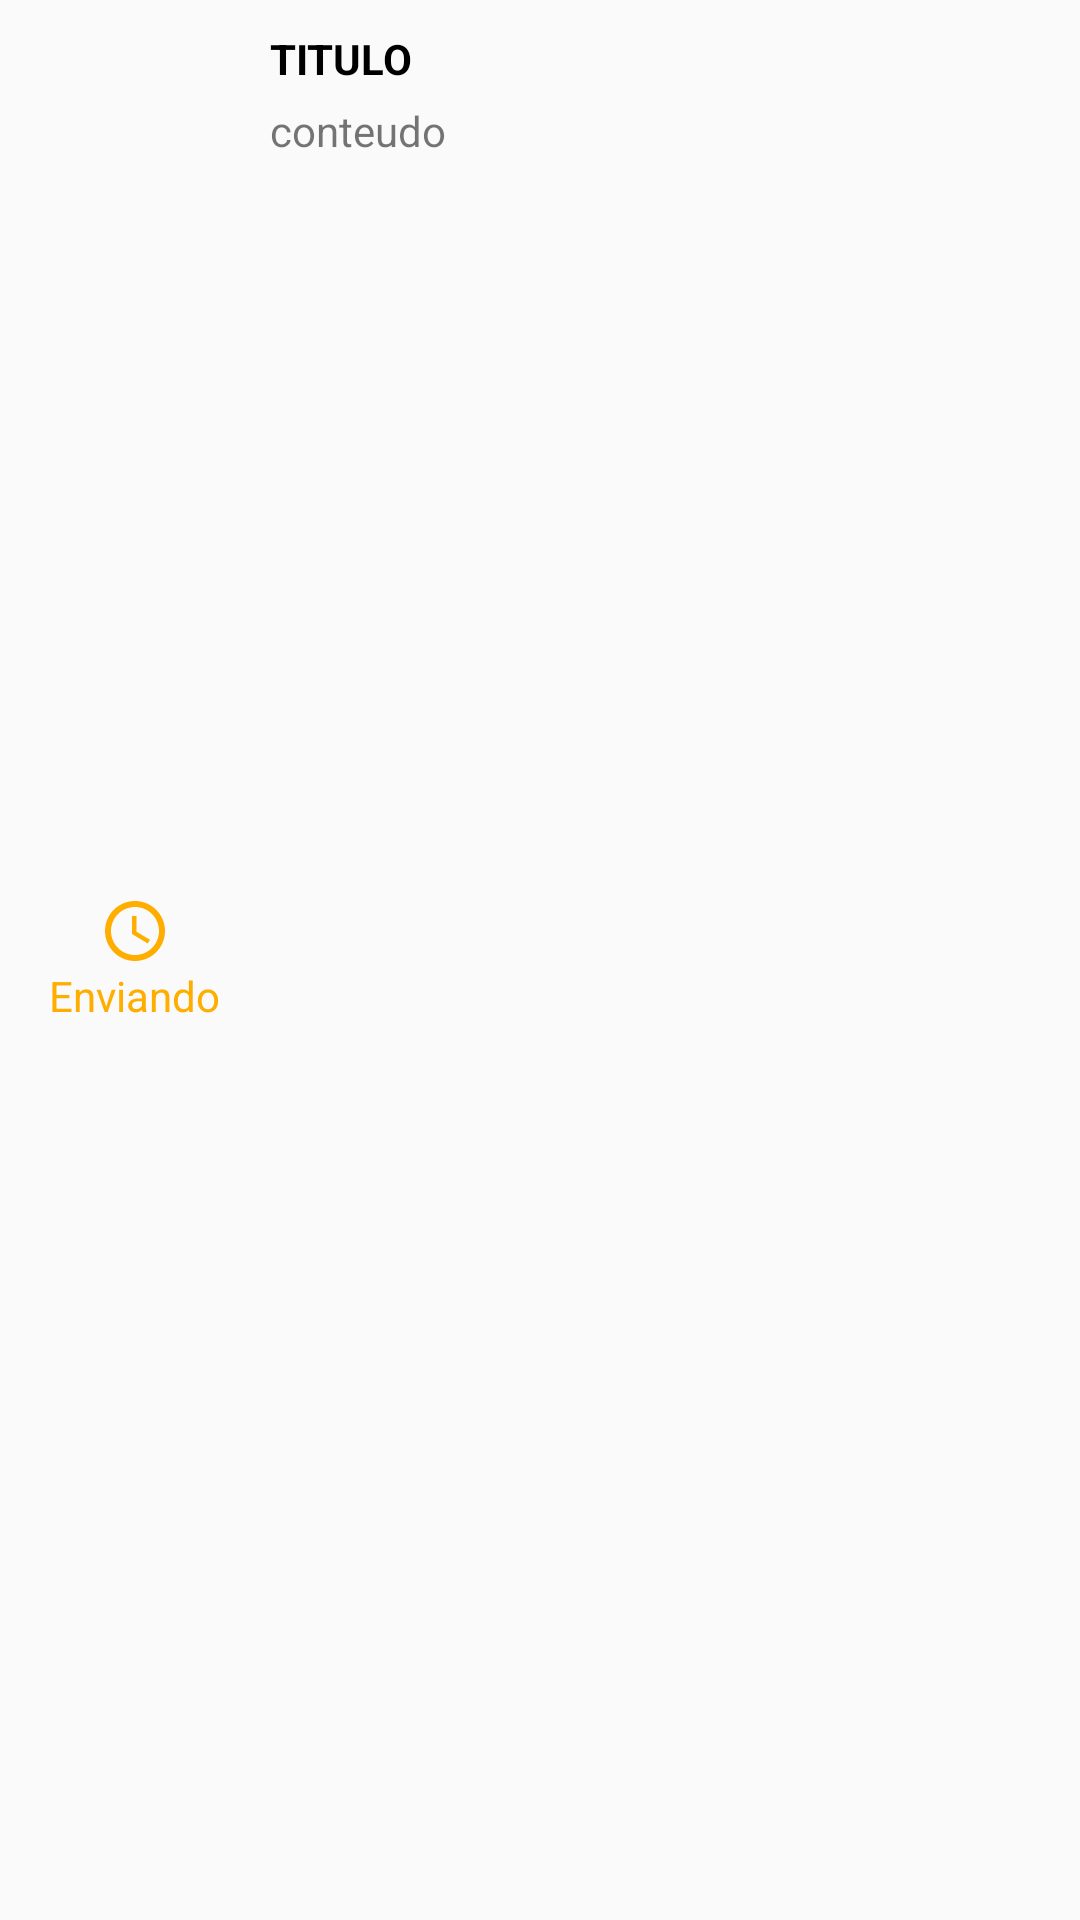

Icons on this 1080 × 1920 Android screen, each with its box as {"left": x1, "top": y1, "right": x2, "bottom": y2}:
access time: {"left": 105, "top": 901, "right": 165, "bottom": 961}
